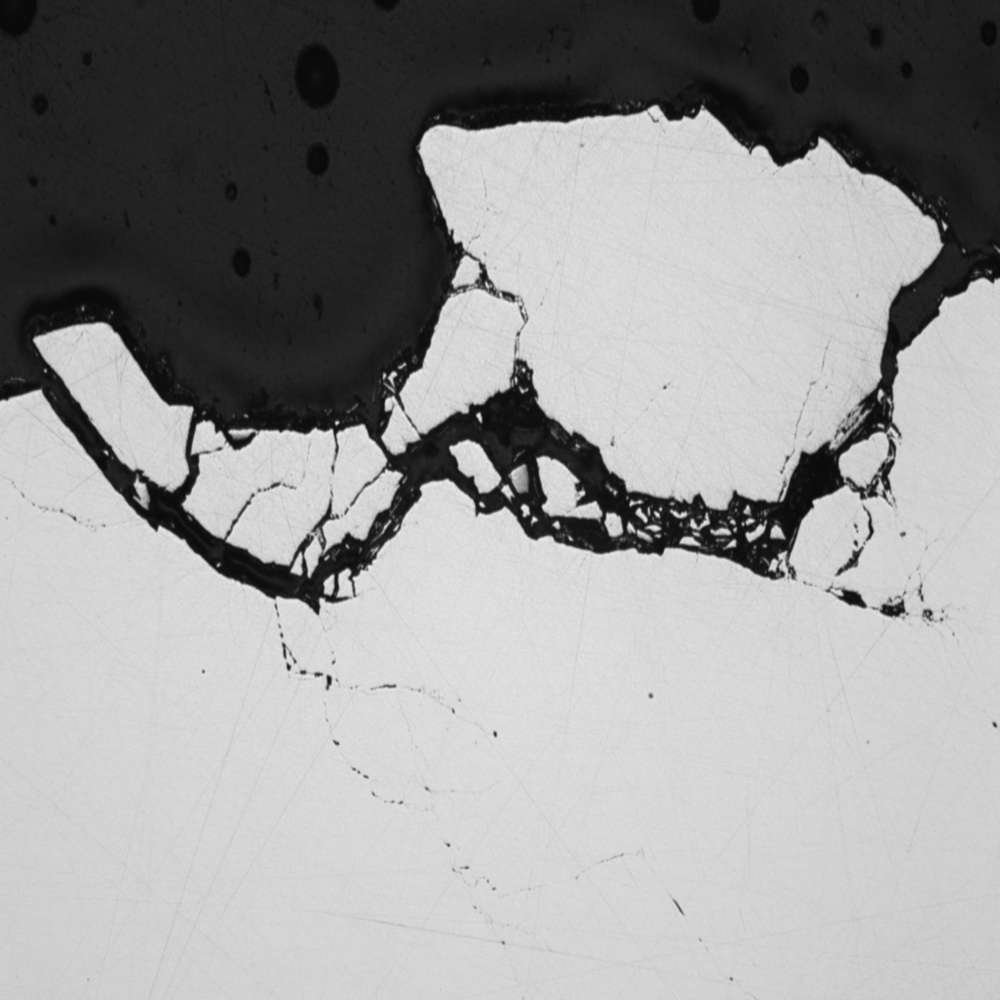crack: (22, 161, 989, 674)
